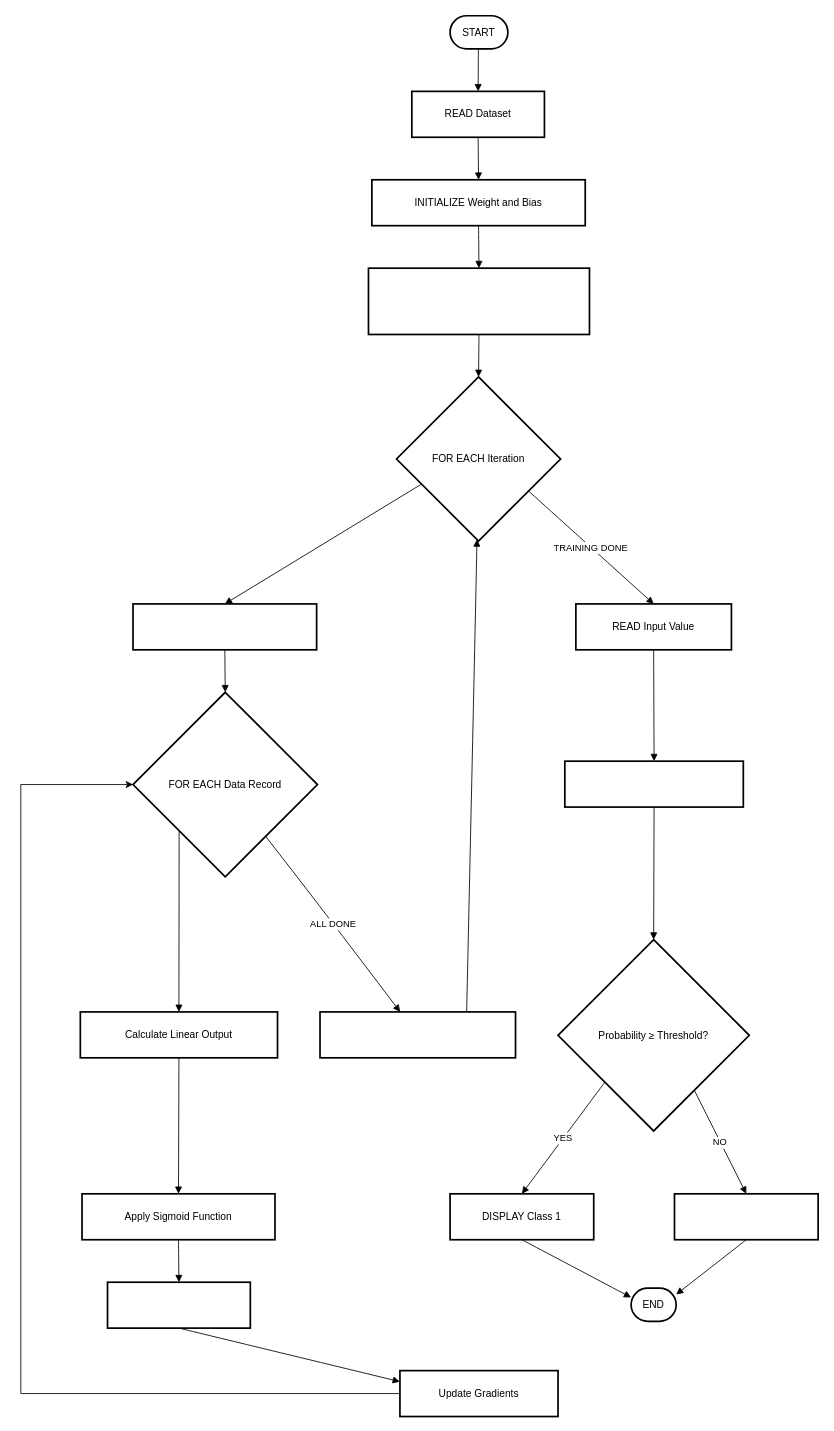
Some shapes in this 834 by 1431 pixel diagram are drawn without their labels. Each missing label, with the centre of its shape:
Calculate Error: (x=178, y=1305)
Calculate Probability: (x=654, y=784)
DISPLAY Class 0: (x=746, y=1216)
READ Learning Rate and Iterations: (x=478, y=301)
SET Gradients to Zero: (x=224, y=626)
Update Weight and Bias: (x=417, y=1034)
